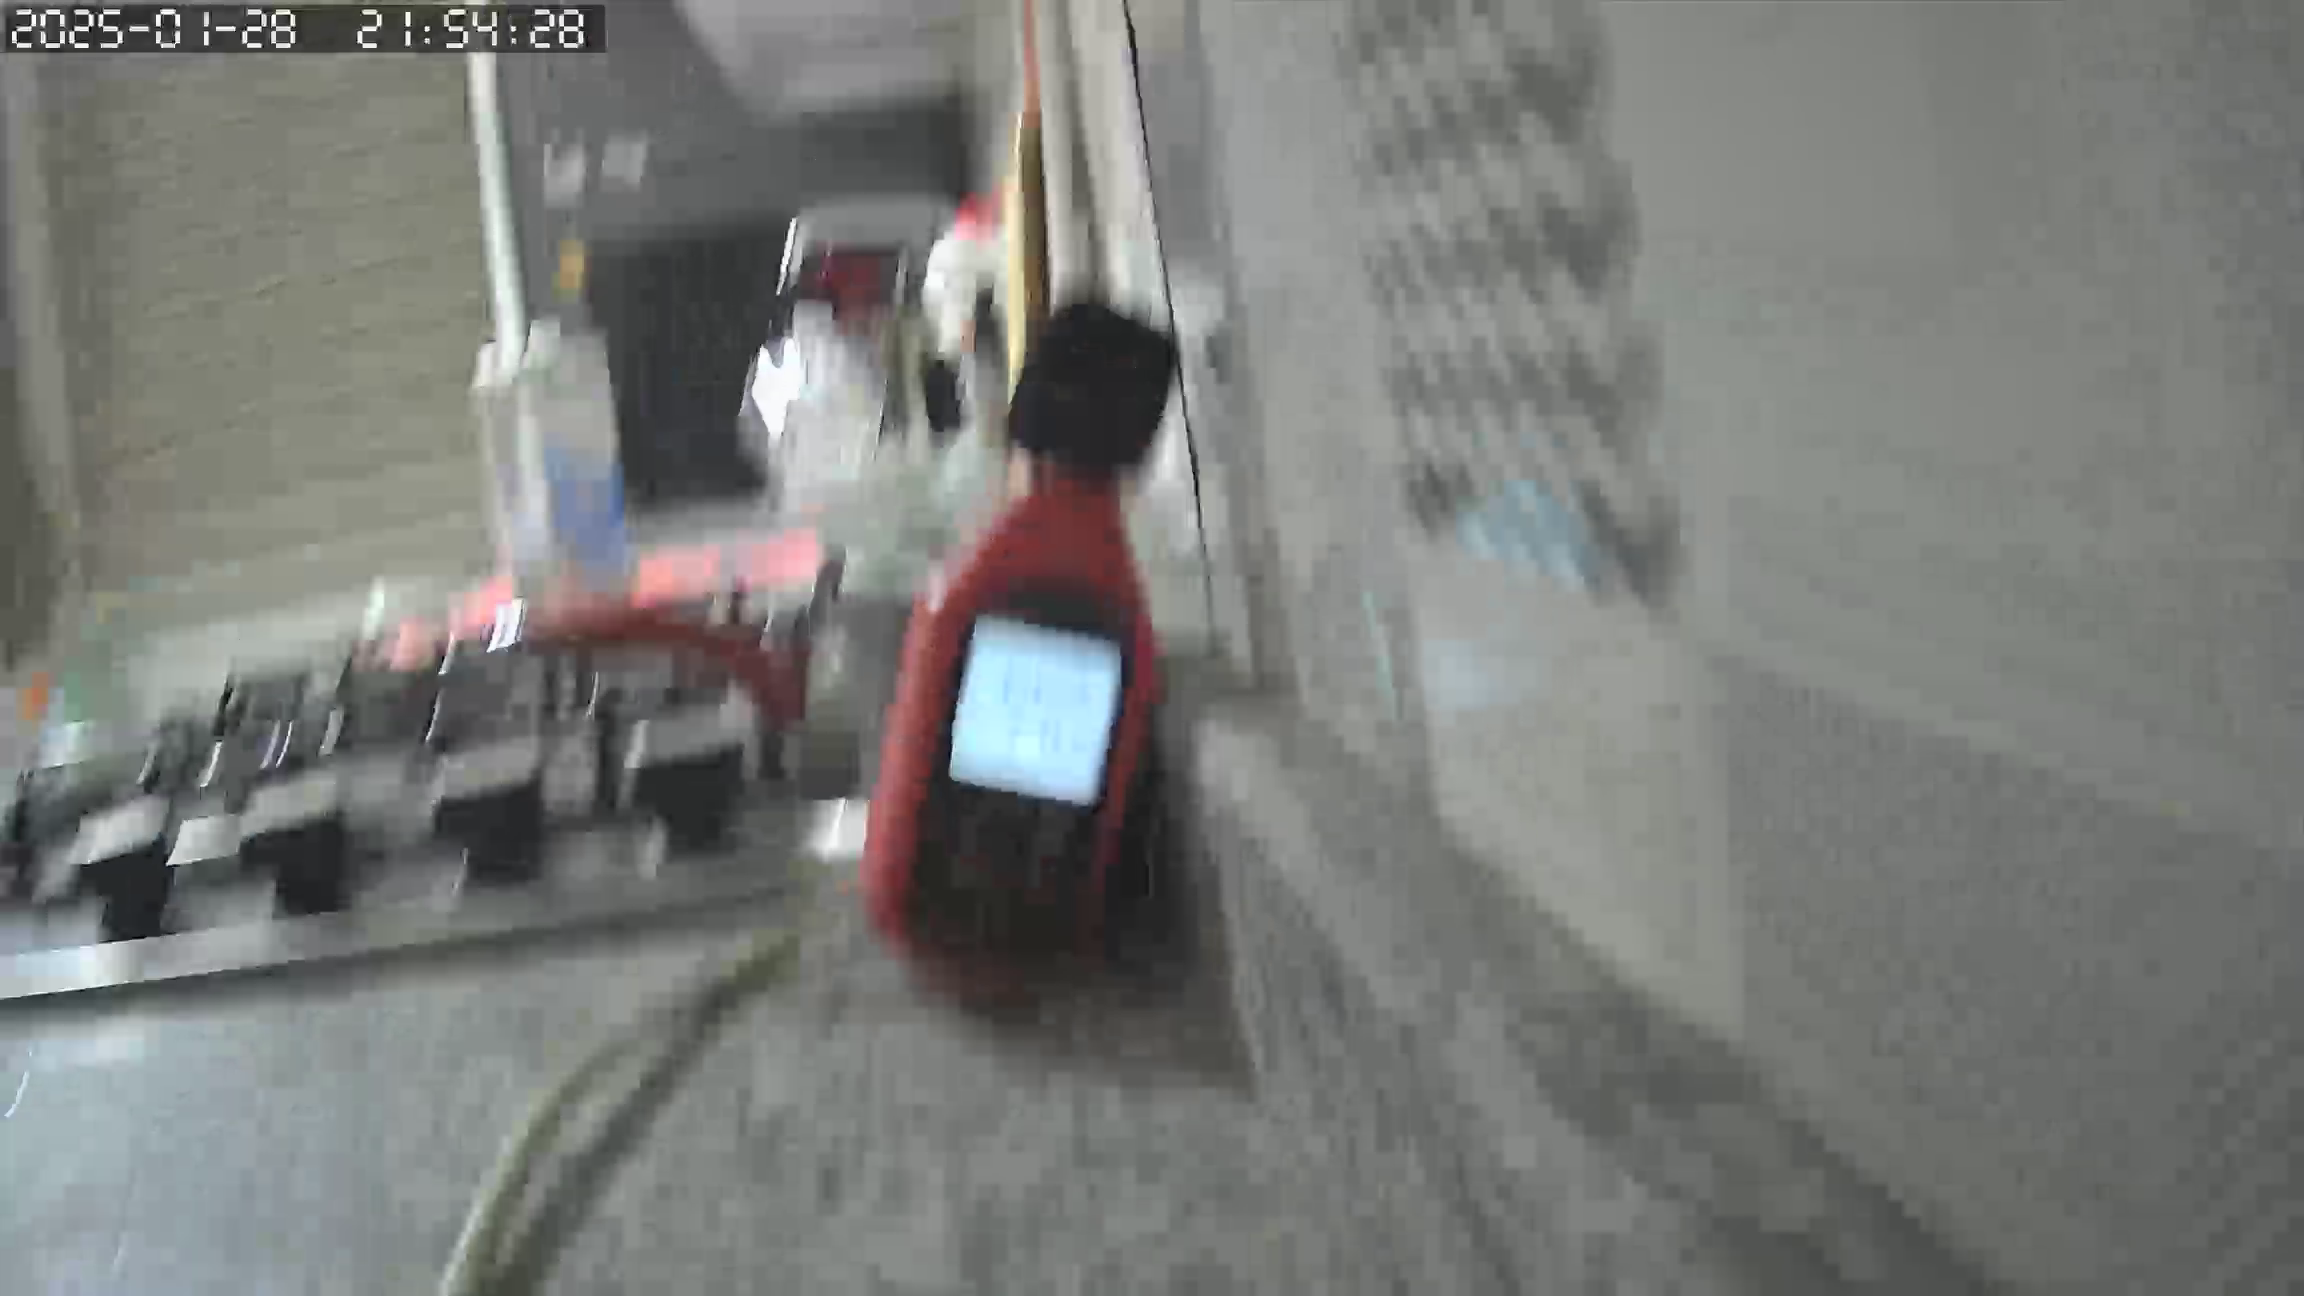screen: (942, 619, 1127, 805)
